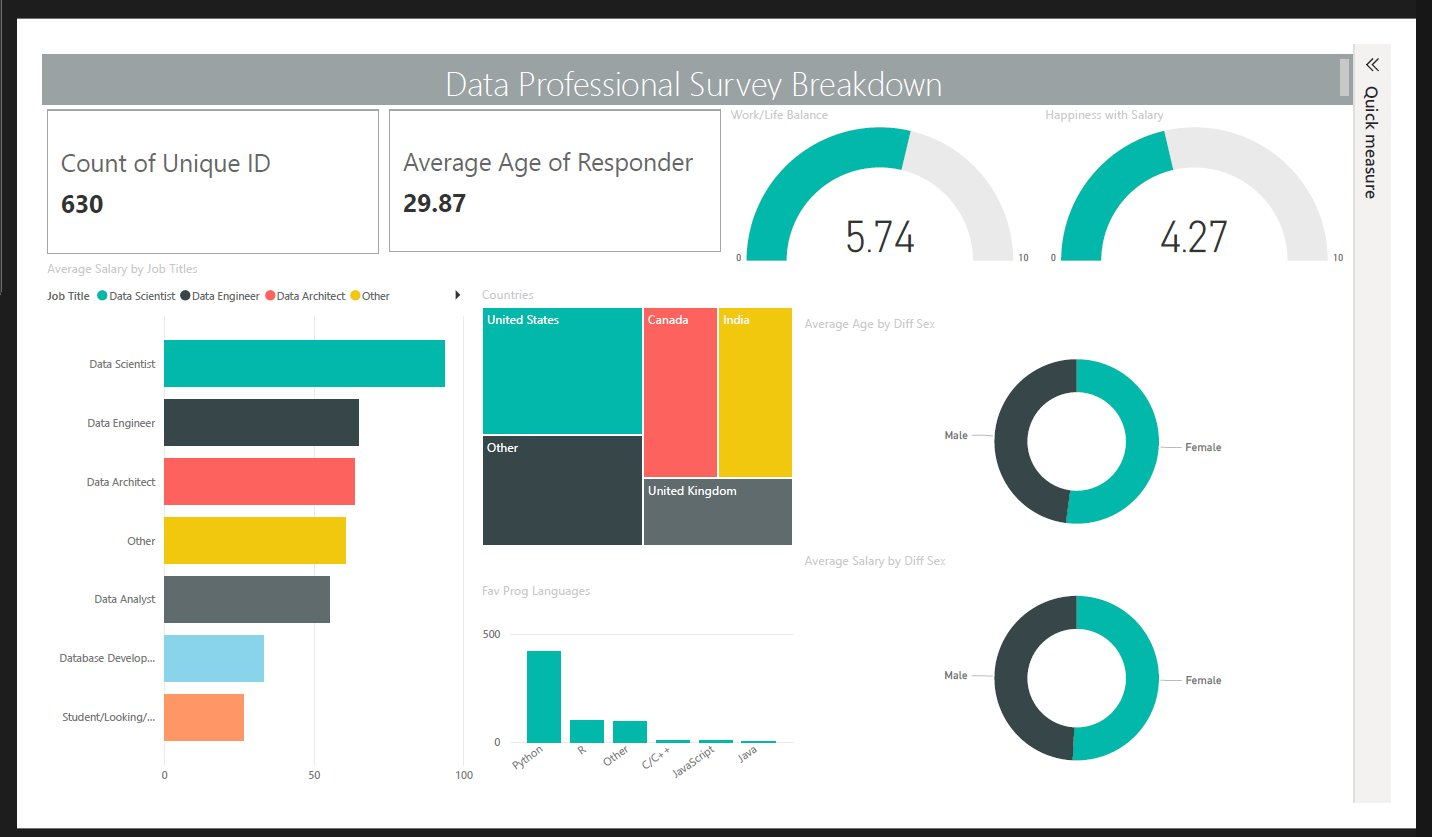

Layout of this report page (visuals, bound fields, positions):
{"tool":"powerbi","page":{"name":"Dashboard One","canvas":[1280,720],"ordinal":0},"visuals":[{"type":"textbox","box":[0,0,1280.3,49.4],"z":0},{"type":"cardVisual","fields":{"Data":["Count(Data Professional Survey.Unique ID)"]},"box":[0,49.4,333.4,149.6],"z":1},{"type":"cardVisual","fields":{"Data":["Avg(Data Professional Survey.Q10 - Current Age)"]},"box":[333.6,48.6,333.6,148.7],"z":2},{"type":"barChart","title":"Average Salary by Job Titles ","fields":{"Category":["Data Professional Survey.Q1 - Which Title Best Fits your Current Role?.1"],"Y":["Avg(Data Professional Survey.Avg Salary)"],"Series":["Data Professional Survey.Q1 - Which Title Best Fits your Current Role?.1"]},"box":[0,200.1,425.3,519.8],"z":3},{"type":"columnChart","title":"Fav Prog Languages","fields":{"Category":["Data Professional Survey.Q5 - Favorite Programming Language.1.1"],"Y":["CountNonNull(Data Professional Survey.Q5 - Favorite Programming Language.1.1)"]},"box":[423.8,513.8,313.8,206.2],"z":4},{"type":"treemap","title":"Countries","fields":{"Group":["Data Professional Survey.Q11 - Which Country do you live in?.1"],"Values":["Count(Data Professional Survey.Avg Salary)"]},"box":[423.8,225,313.8,260],"z":5},{"type":"gauge","title":"Work/Life Balance","fields":{"Y":["Avg(Data Professional Survey.Q6 - How Happy are you in your Current Position with the following? (Work/Life Bal"],"MinValue":["Min(Data Professional Survey.Q6 - How Happy are you in your Current Position with the following? (Work/Life Balance))"],"MaxValue":["Max(Data Professional Survey.Q6 - How Happy are you in your Current Position with the following? (Work/Life Balance))"]},"box":[667.1,50,305.8,161.2],"z":6},{"type":"gauge","title":"Happiness with Salary","fields":{"Y":["Avg(Data Professional Survey.Q6 - How Happy are you in your Current Position with the following? (Salary))"],"MinValue":["Min(Data Professional Survey.Q6 - How Happy are you in your Current Position with the following? (Salary))1"],"MaxValue":["Max(Data Professional Survey.Q6 - How Happy are you in your Current Position with the following? (Salary))2"]},"box":[974.2,50,305.8,161.2],"z":7},{"type":"donutChart","title":"Average Age by Diff Sex","fields":{"Category":["Data Professional Survey.Q9 - Male/Female?"],"Y":["Avg(Data Professional Survey.Q10 - Current Age)"]},"box":[739.4,254.3,540.6,230.7],"z":8},{"type":"donutChart","title":"Average Salary by Diff Sex","fields":{"Category":["Data Professional Survey.Q9 - Male/Female?"],"Y":["Avg(Data Professional Survey.Avg Salary)"]},"box":[739.4,485,540.6,230.7],"z":10}]}

Visuals, with their boxes on the page's 1280x720 design canvas (x1, y1, x2, y2). These are canvas units, not pixel positions in the 1432x837 screenshot, which may show the page scaled, cropped or inside an application window:
textbox: bbox=(0, 0, 1280, 49)
cardVisual - Count(Data Professional Survey.Unique ID): bbox=(0, 49, 333, 199)
cardVisual - Avg(Data Professional Survey.Q10 - Current Age): bbox=(334, 49, 667, 197)
"Average Salary by Job Titles " barChart: bbox=(0, 200, 425, 720)
"Fav Prog Languages" columnChart: bbox=(424, 514, 738, 720)
"Countries" treemap: bbox=(424, 225, 738, 485)
"Work/Life Balance" gauge: bbox=(667, 50, 973, 211)
"Happiness with Salary" gauge: bbox=(974, 50, 1280, 211)
"Average Age by Diff Sex" donutChart: bbox=(739, 254, 1280, 485)
"Average Salary by Diff Sex" donutChart: bbox=(739, 485, 1280, 716)
